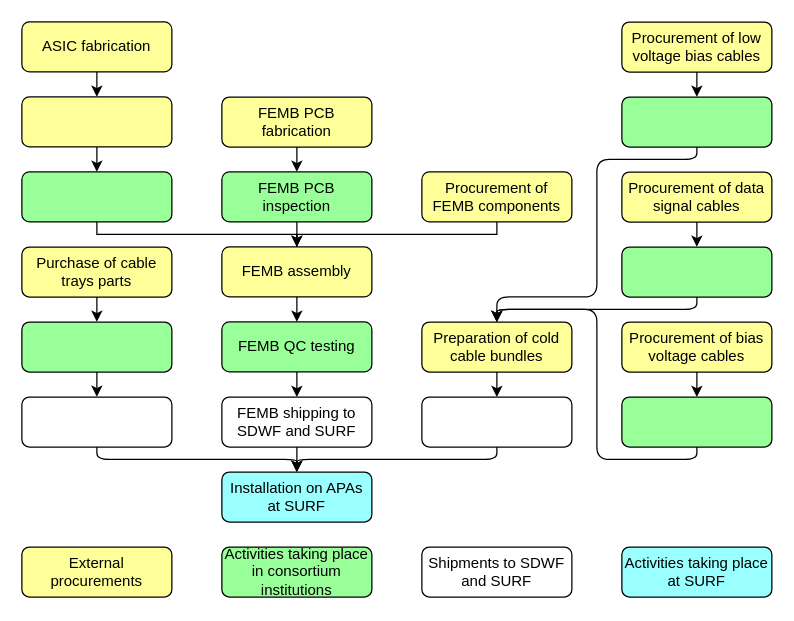
Some shapes in this 794 by 621 pixel diagram are drawn without their labels. Each missing label, with the box of its shape:
ASIC dicing and packaging: (21, 96, 172, 147)
ASIC QC testing: (21, 171, 172, 222)
Pre-assembly of cable trays parts: (21, 321, 172, 372)
QC testing of bias voltage cables: (621, 396, 772, 447)
QC testing of data signal cables: (621, 246, 772, 297)
QC testing of low voltage bias cables: (621, 96, 772, 147)
Transport of cable bundles to SDWF and SURF: (421, 396, 572, 447)
Transport of cable trays parts to SDWF and SURF: (21, 396, 172, 447)
